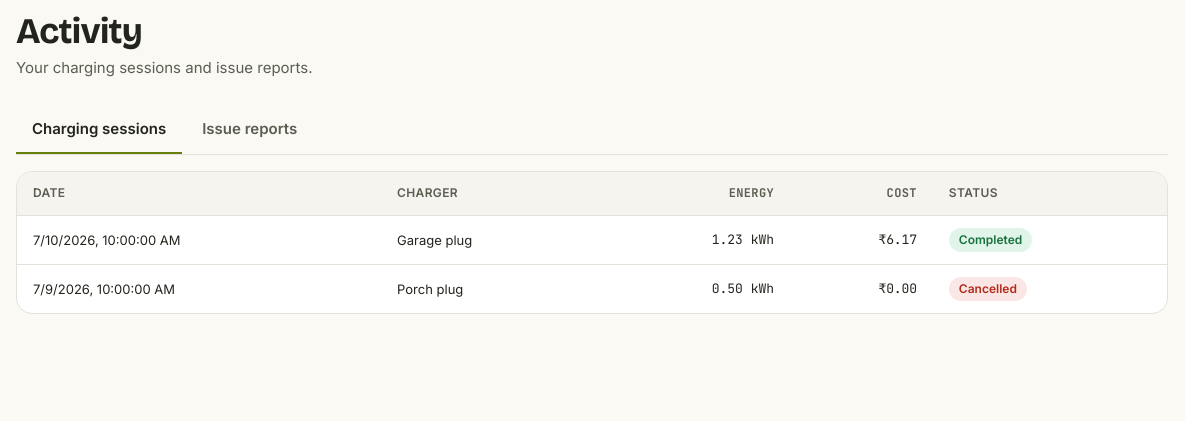
it: Activity — issue reports tab › shows the empty state only for a true zero-row result
This screenshot has width=1185, height=421.
Expected: the text "Garage plug" is shown, [381,216,598,264]
Click the tab "Issue reports" at (250, 130), box [186,105,313,154]
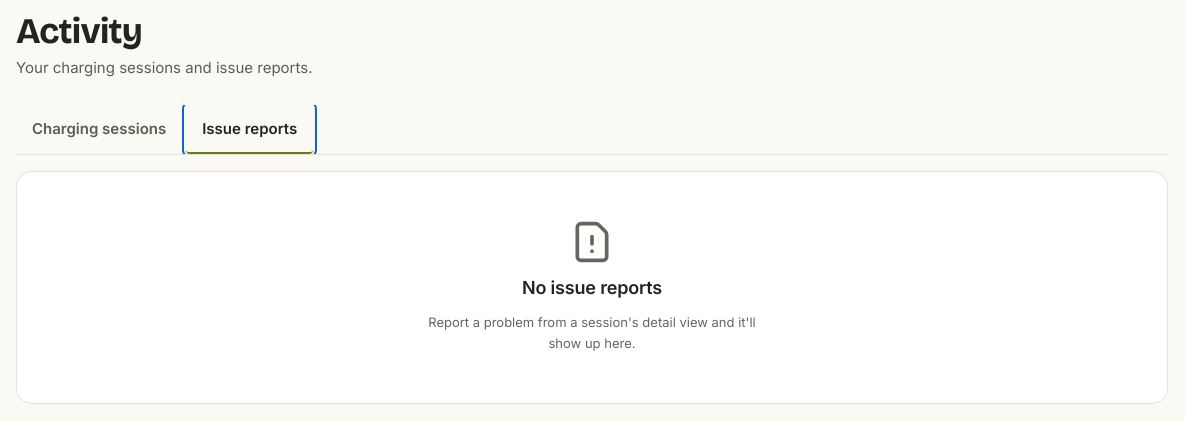
Now the heading "No issue reports" is shown, box [522,276,662,300]
